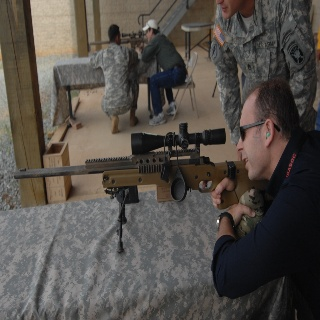rifle: (12, 120, 275, 253)
